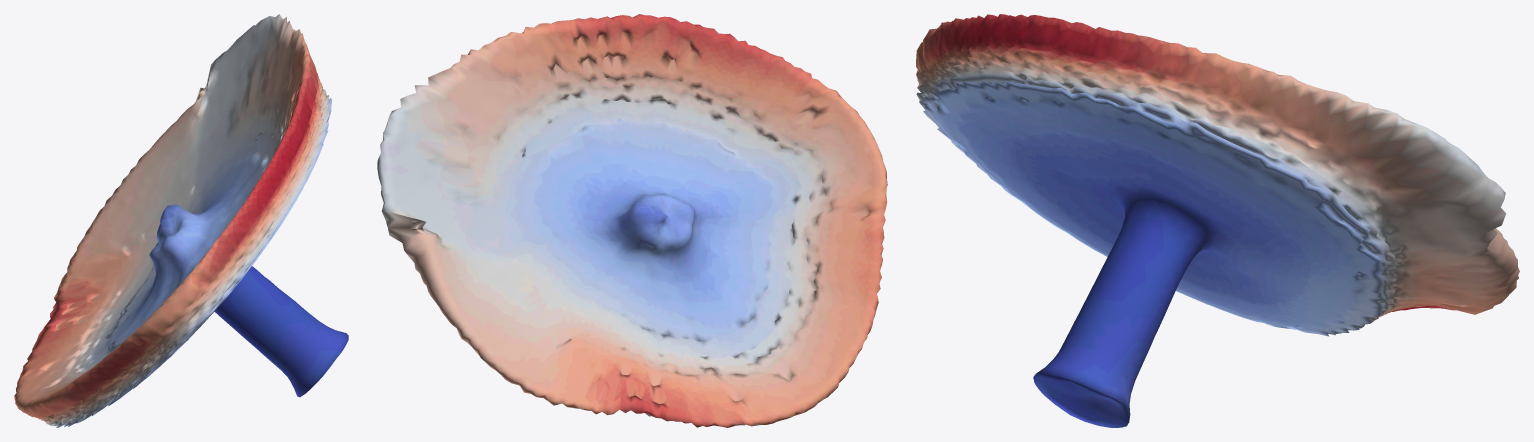
File: colored_model_disk.obj
3 renders of one model, left to right at view 1: azimuth 30°, elevation 25°; view 2: azimuth 150°, elevation 25°; view 3: azimuth 270°, elevation 25°, orthographic. The views are drawn at different scales.
Bounding box in the file's own units: 15.78 × 13.73 × 17.73.
